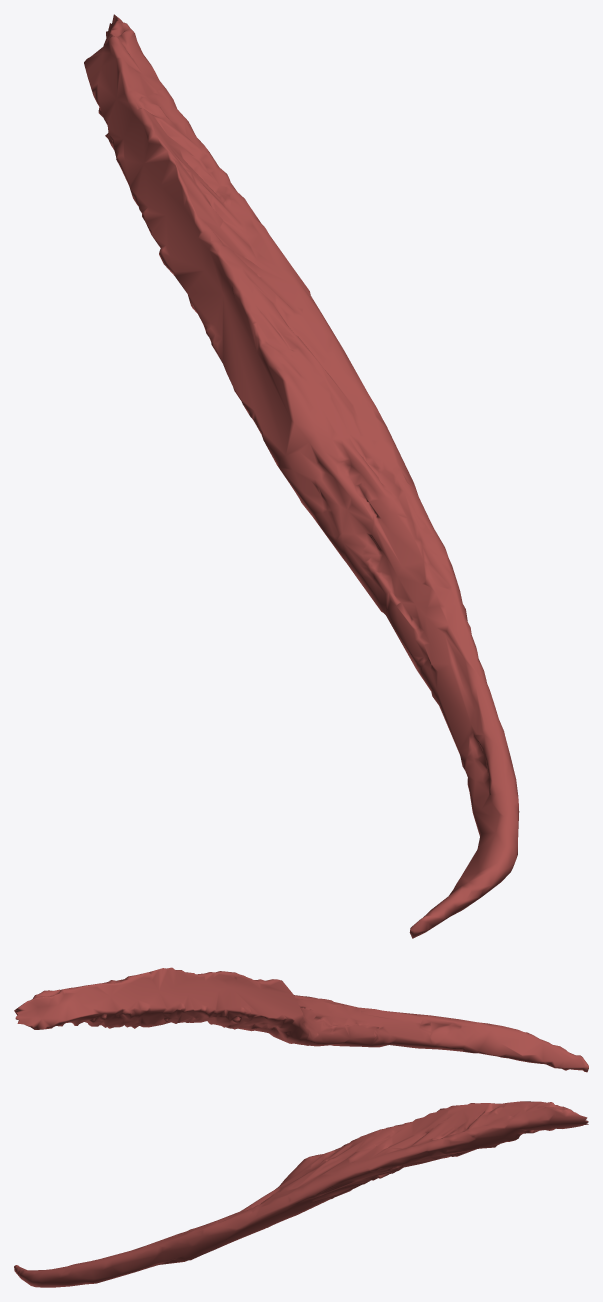
The model's file is FMA37745.glb.
The picture shows the model from 3 angles, top to bottom: view 1: azimuth 30°, elevation 25°; view 2: azimuth 150°, elevation 25°; view 3: azimuth 270°, elevation 25°; orthographic projection. The views are drawn at different scales.
Visible parts, largest first — view 1: FMA37745; view 2: FMA37745; view 3: FMA37745.
Part boxes in pixels (<box>): FMA37745: <box>84,14,519,938</box>; FMA37745: <box>14,967,588,1072</box>; FMA37745: <box>14,1101,588,1287</box>.
Bounding box in the file's own units: 0.0148 × 0.0236 × 0.054.
